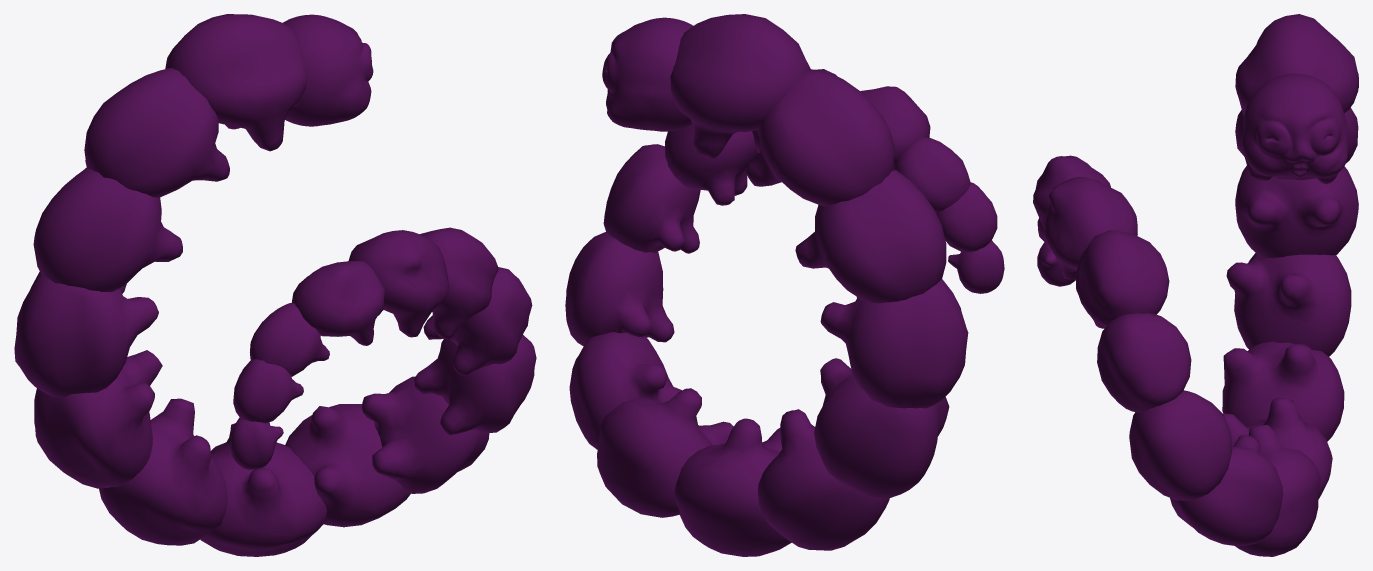
The model's file is Toji Worm.glb.
3 renders of one model, left to right at view 1: azimuth 30°, elevation 25°; view 2: azimuth 150°, elevation 25°; view 3: azimuth 270°, elevation 25°, orthographic. The views are drawn at different scales.
Visible parts, largest first — view 1: Retopo_Sphere.013, Retopo_Sphere; view 2: Retopo_Sphere.013, Retopo_Sphere; view 3: Retopo_Sphere.013, Retopo_Sphere.
Part boxes in pixels (x1,y1,x2,y2): Retopo_Sphere.013: (14, 14, 536, 556); Retopo_Sphere: (283, 14, 373, 126); Retopo_Sphere.013: (565, 14, 1004, 556); Retopo_Sphere: (602, 17, 693, 131); Retopo_Sphere.013: (1033, 14, 1358, 556); Retopo_Sphere: (1241, 73, 1348, 178).
Bounding box in the file's own units: 9.17 × 10.48 × 6.2.
